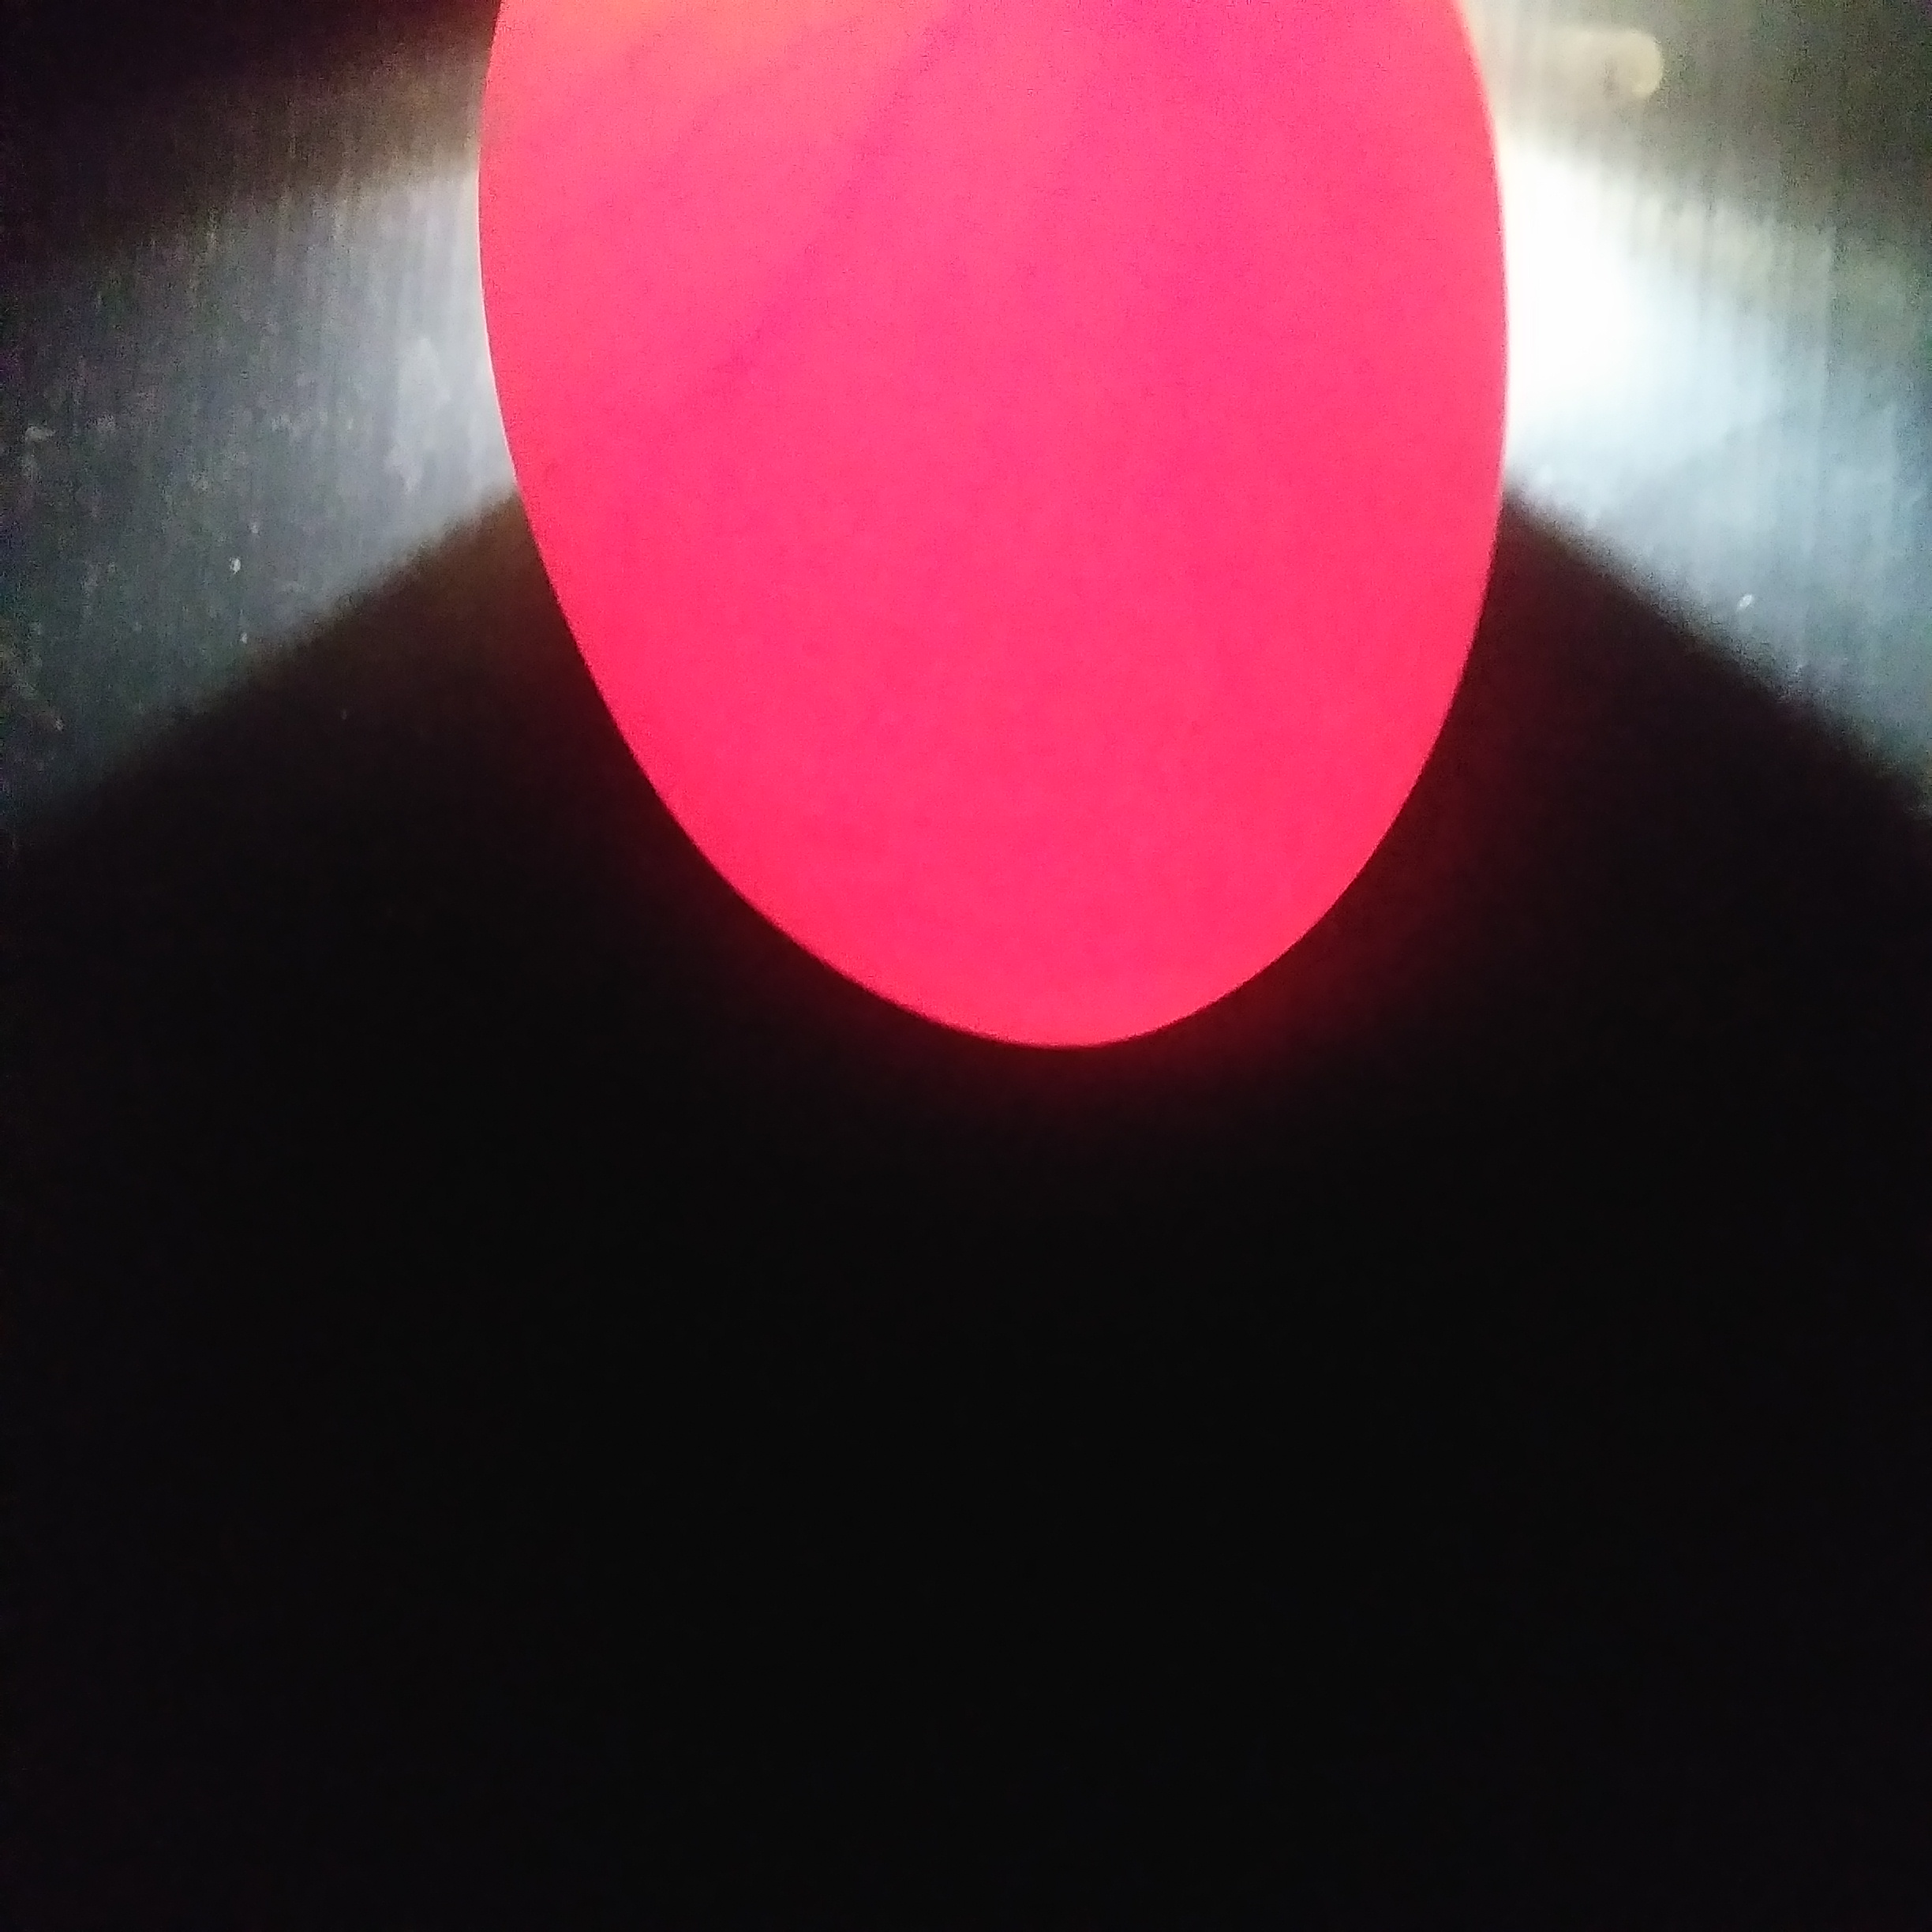bloodcell: (632, 64, 1292, 717)
